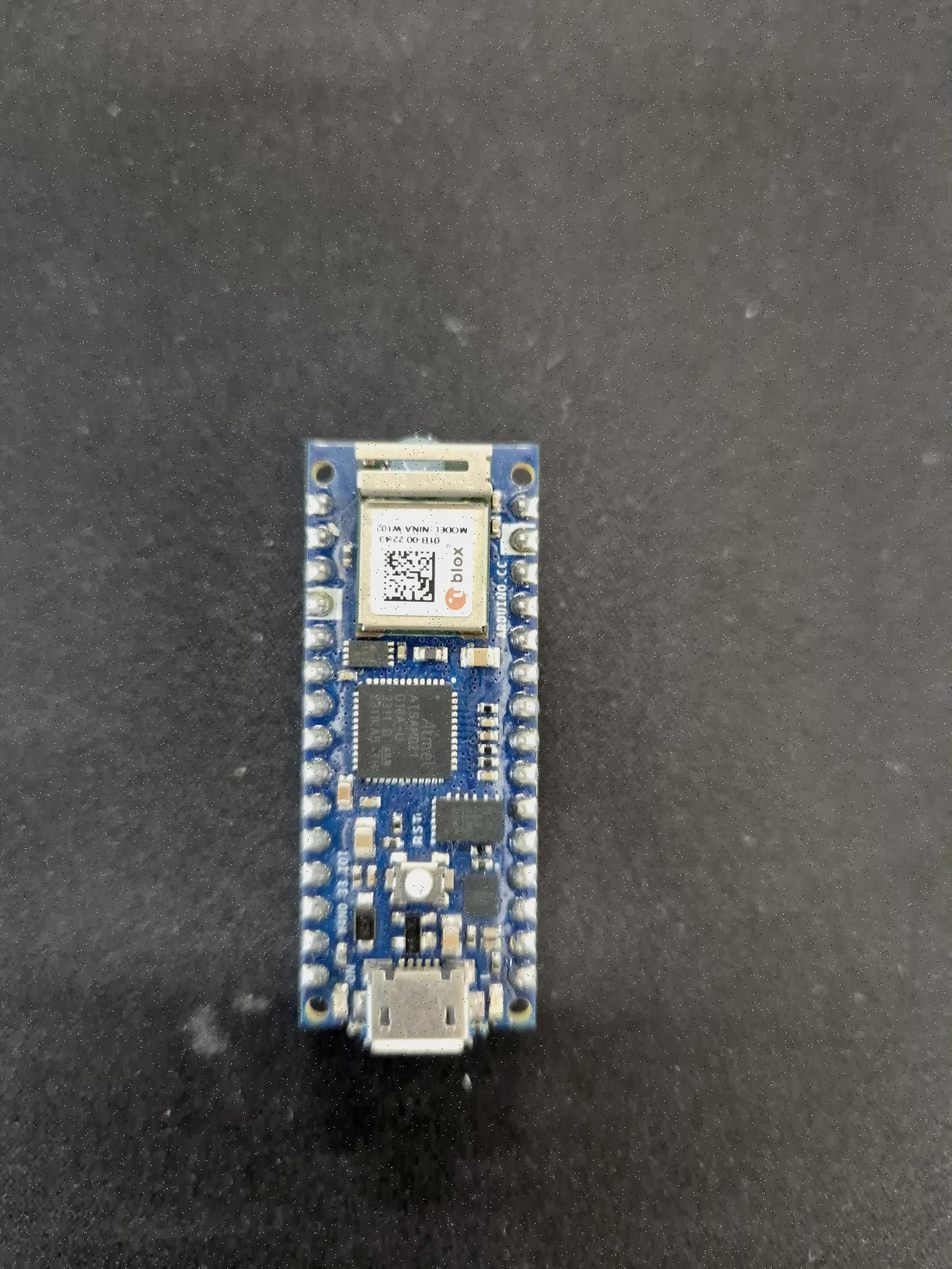arduino-nano-iot-33: (299, 428, 572, 1075)
